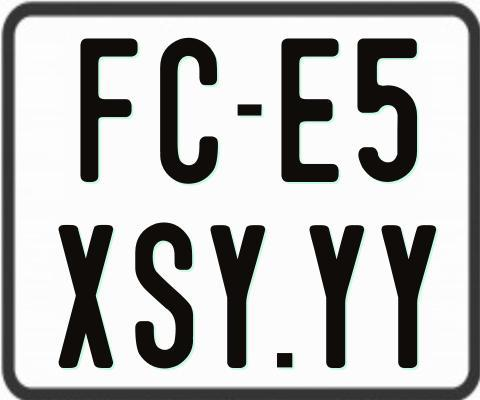5: (355, 38, 421, 181)
C: (160, 38, 224, 185)
E: (280, 37, 340, 181)
F: (77, 36, 137, 184)
S: (132, 223, 195, 369)
X: (59, 222, 116, 366)
Y: (310, 224, 368, 369), (211, 223, 265, 372), (382, 225, 436, 374)
